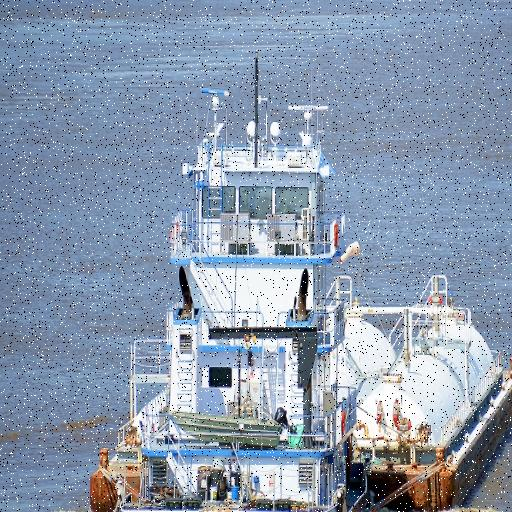tugboat: (89, 82, 383, 512)
